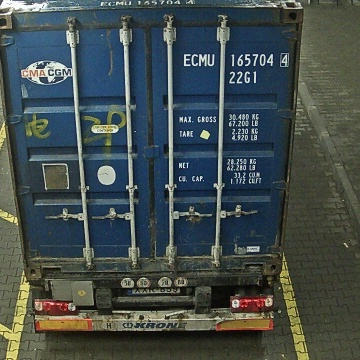serial_id: (183, 53, 288, 67)
